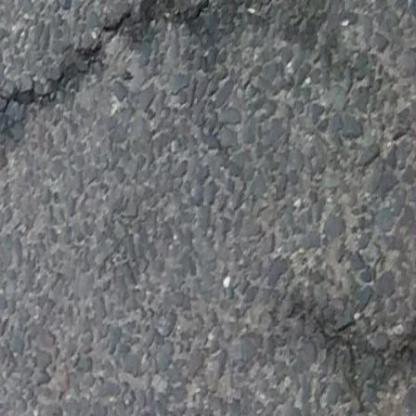Cracks: (0, 0, 255, 160), (267, 272, 416, 416)
